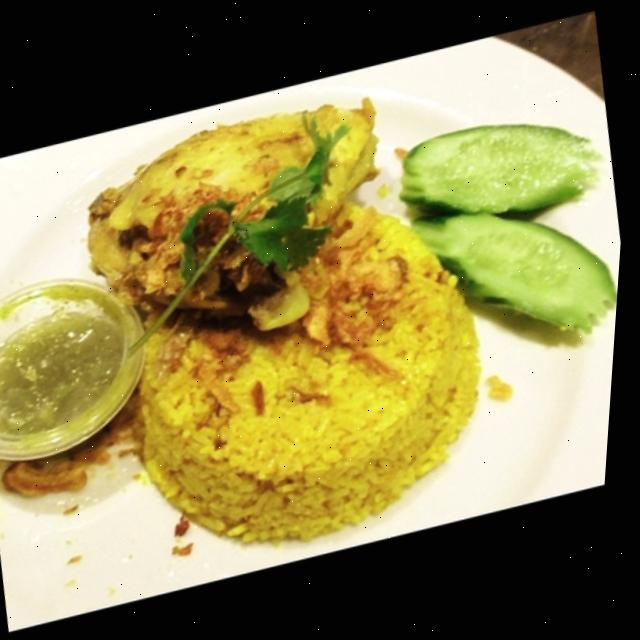米饭主食: (0, 4, 638, 630)
